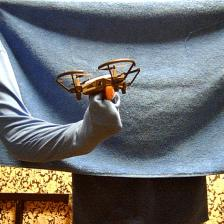drone: (57, 58, 141, 104)
